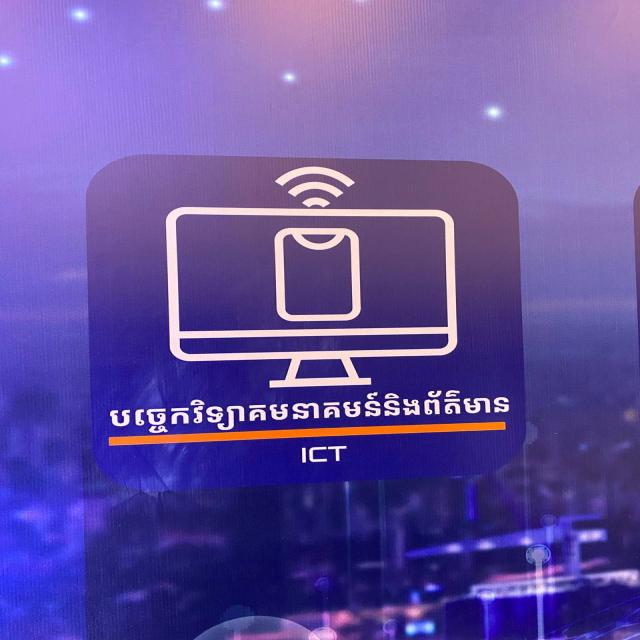Yolov11kh: (105, 387, 514, 434)
